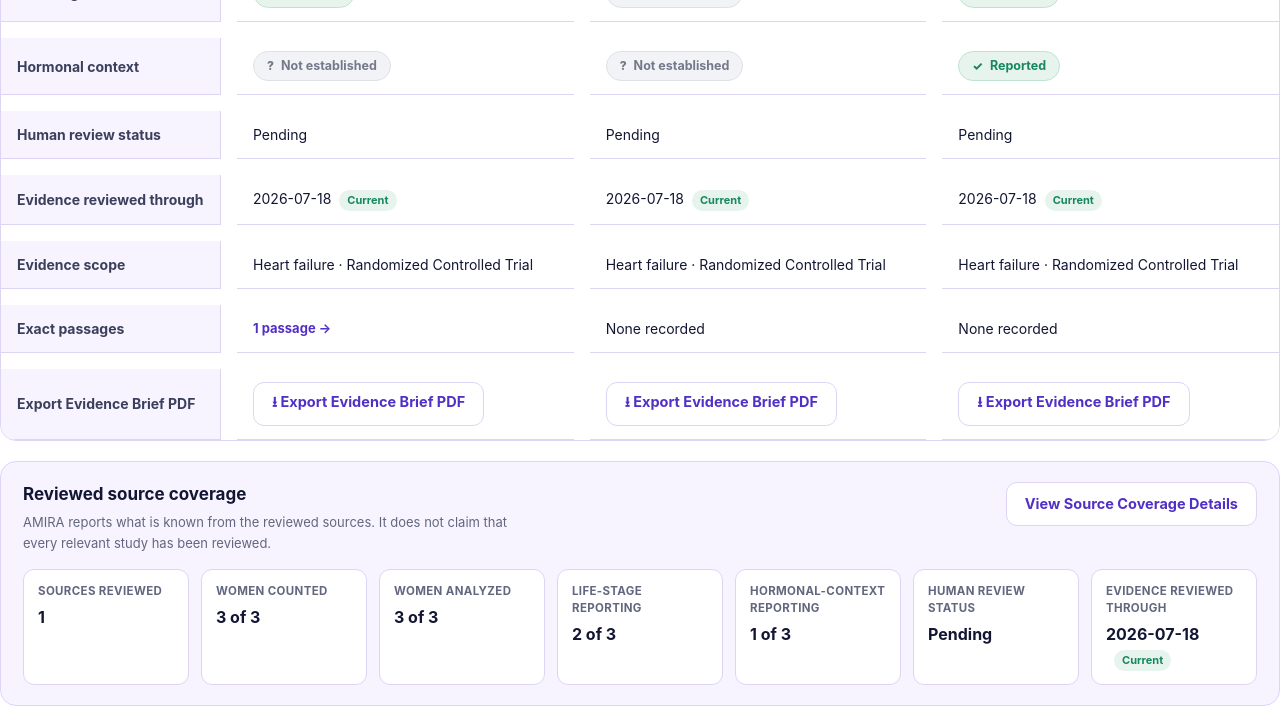
Compare Evidence — reviewed source coverage › Source coverage details list medicine, source, population, review status and cutoff
(page scrolled)
Expected: the element with class "cmp-coverage" is shown, [0, 461, 1279, 705]
Click the button "View Source Coverage Details": (1131, 504) [1006, 482, 1257, 526]
(page scrolled)
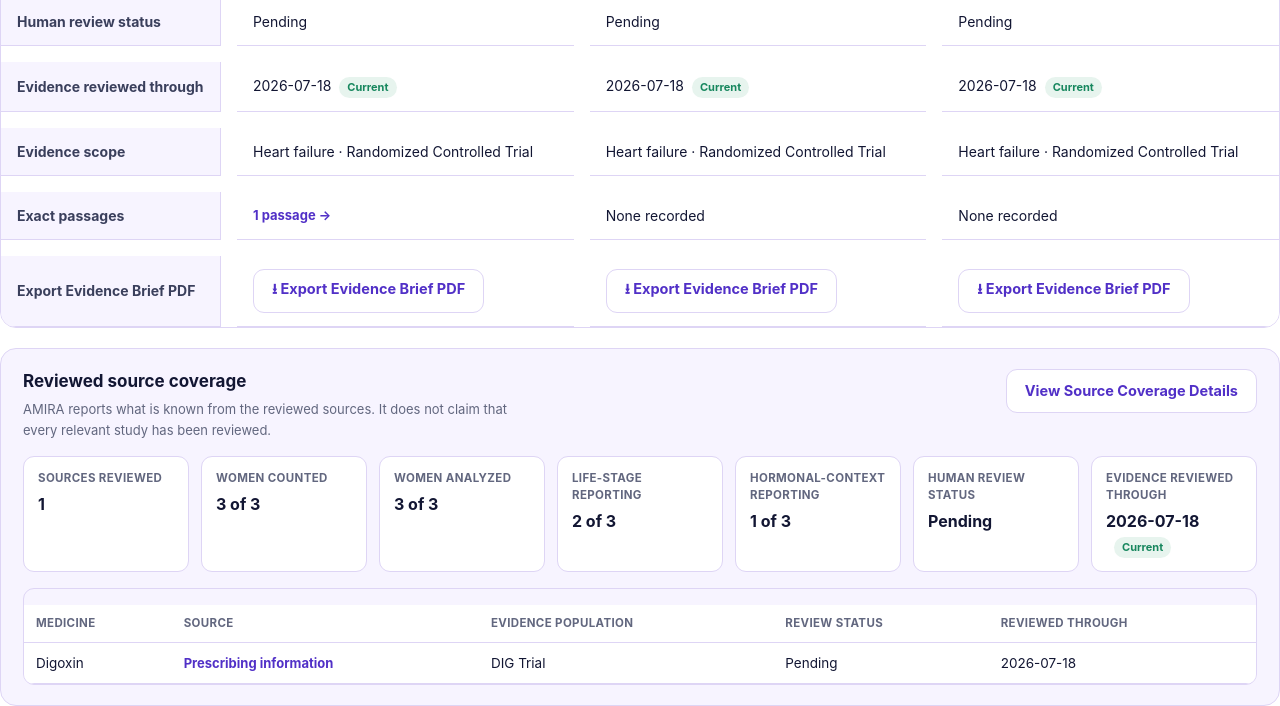
Now the table with class "cmp-cov-table" shows "Digoxin", box [36, 655, 84, 671]
Now the table with class "cmp-cov-table" shows "2026-07-18", box [1001, 655, 1076, 671]
